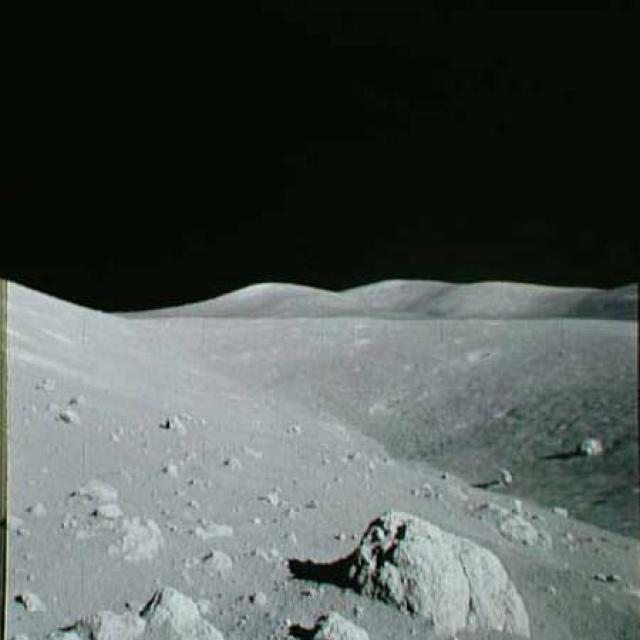rock: (343, 496, 536, 636), (53, 576, 226, 639), (493, 500, 557, 550), (109, 516, 171, 563), (288, 604, 369, 638), (176, 540, 238, 576), (62, 471, 120, 503), (184, 511, 240, 540), (572, 428, 611, 459), (11, 586, 43, 619), (159, 409, 189, 438), (52, 402, 79, 428)
